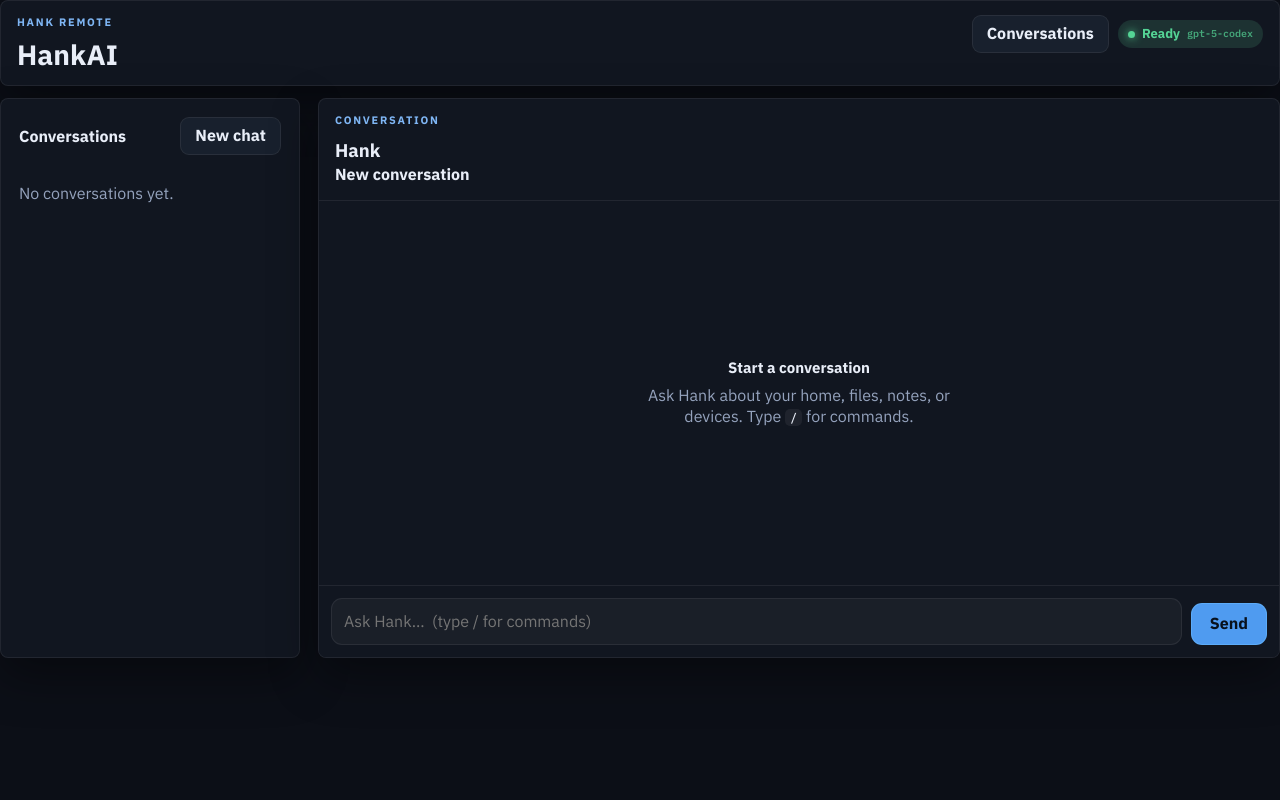
it: HankAIPage › shows enabled installed app slash commands and inserts the selected token
The image size is (1280, 800).
Type "/gra" into the text box named "Message".
click(756, 622); type("/gra")  # box [331,598,1182,645]
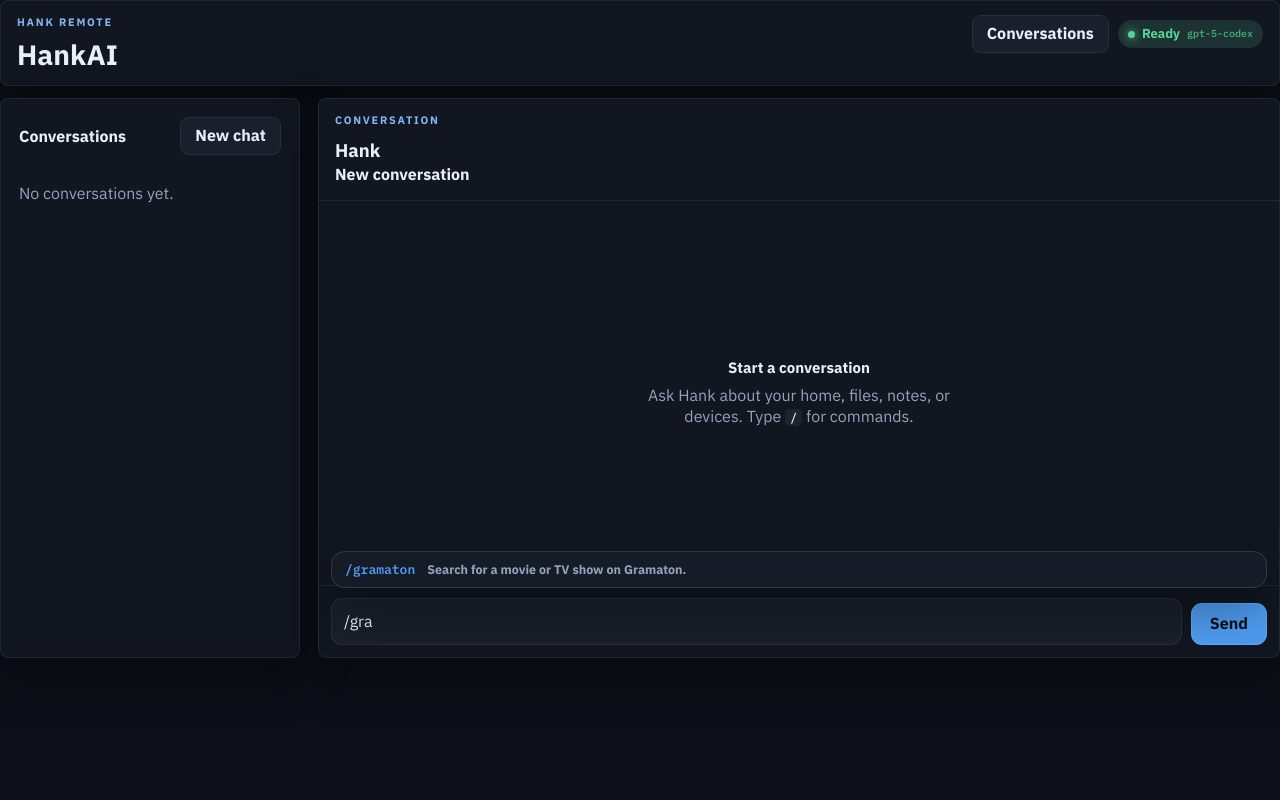
Press the mouse on the option "/gramaton Search for a movie or TV show on Gramaton." at (380, 570), box [332,552,1266,587]
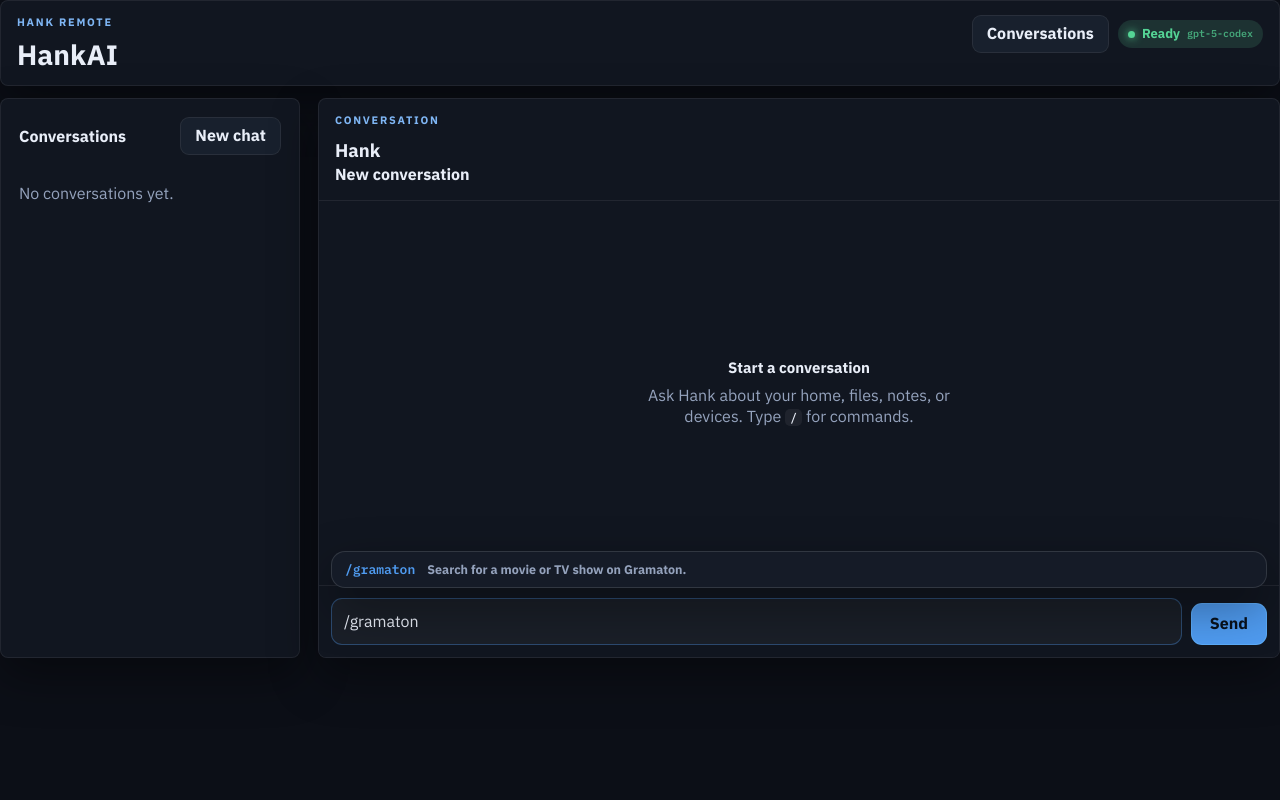
Expected: the text box named "Message" holds "/gramaton ", [331,598,1182,645]
